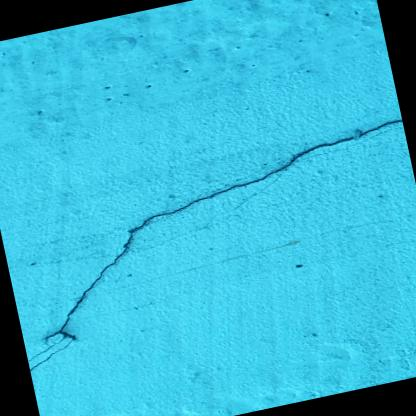crack: (27, 119, 402, 370)
